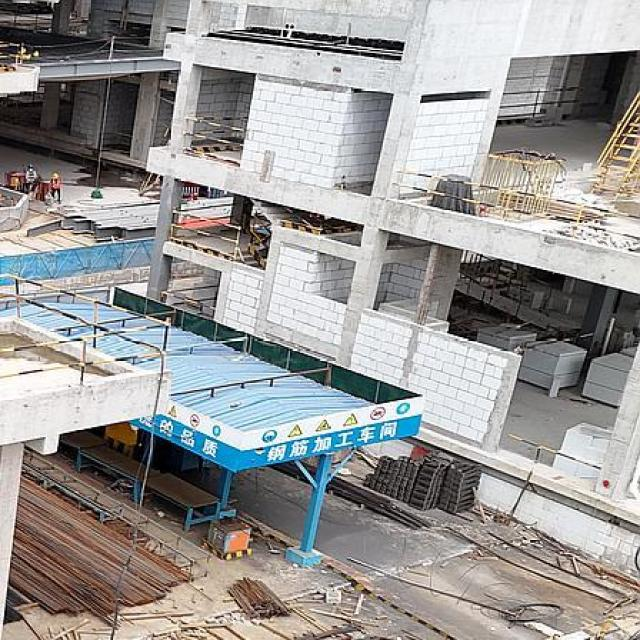edge_guardrail: (0, 273, 171, 385), (391, 167, 640, 243), (167, 202, 243, 261), (507, 433, 603, 471), (182, 115, 247, 166), (19, 37, 111, 56), (159, 284, 218, 313), (108, 35, 163, 59), (0, 43, 20, 74)
